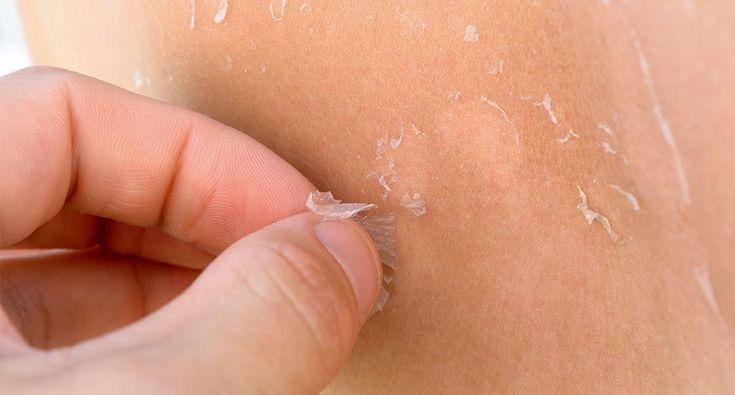Dry-Skin: (366, 9, 493, 167), (311, 192, 440, 325), (171, 7, 336, 90), (545, 110, 651, 211), (605, 6, 680, 135)
